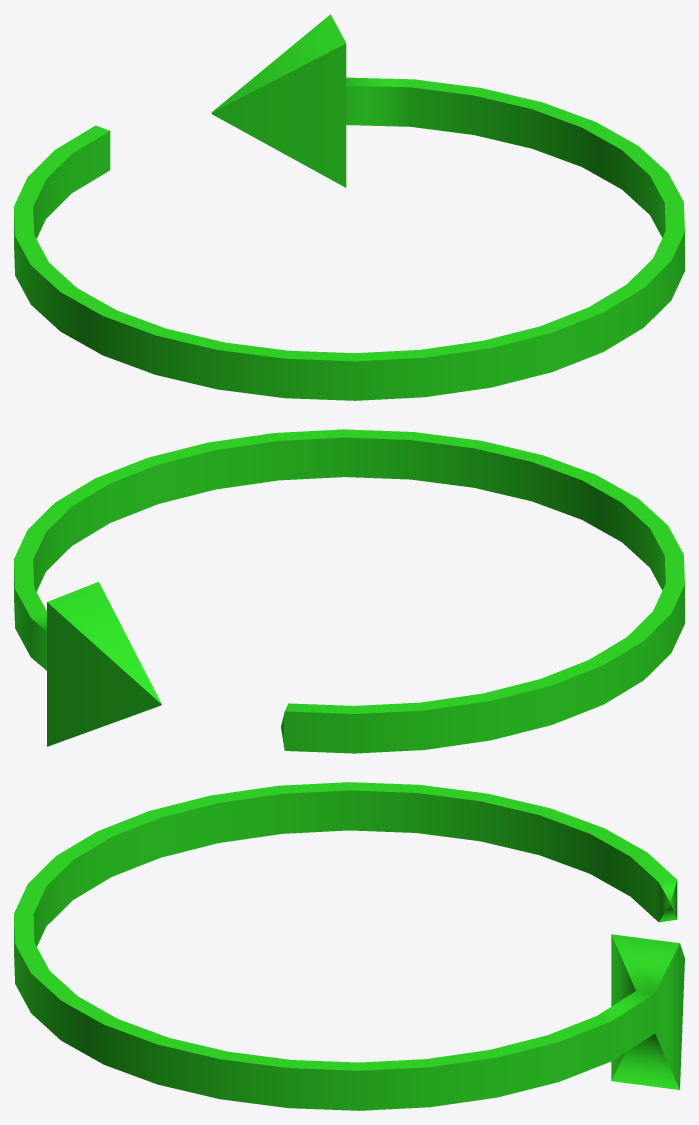
Rendered from AnimRotacion.fbx.
3 renders of one model, top to bottom at view 1: azimuth 30°, elevation 25°; view 2: azimuth 150°, elevation 25°; view 3: azimuth 270°, elevation 25°, orthographic.
Visible parts, largest first — view 1: pPipe1; view 2: pPipe1; view 3: pPipe1.
Part boxes in pixels (x1,y1,x2,y2): pPipe1: (14,14,684,400); pPipe1: (14,429,684,753); pPipe1: (14,782,684,1110).
Bounding box in the file's own units: 30.81 × 7.31 × 30.27.
